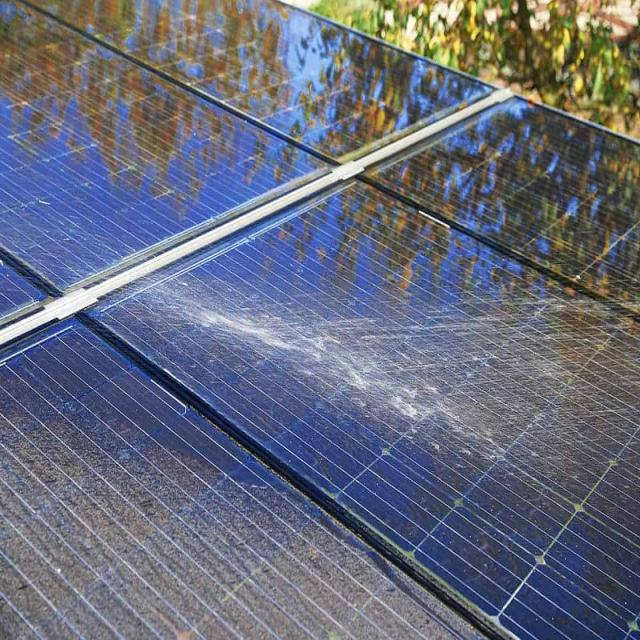faulty: (92, 176, 640, 638), (0, 328, 496, 640), (2, 3, 314, 301)
no faulty: (55, 0, 480, 163), (372, 93, 639, 302)
